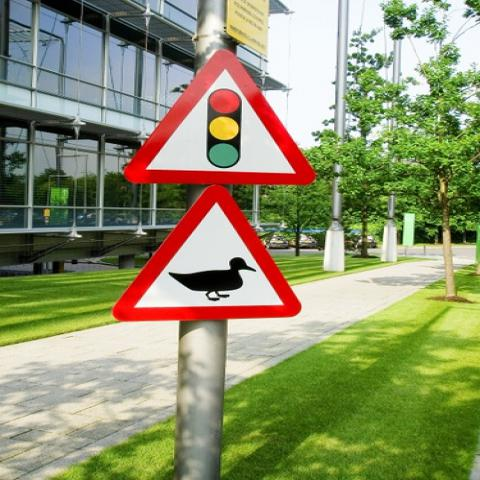car: (288, 236, 315, 247), (357, 236, 376, 248), (267, 236, 287, 247)
